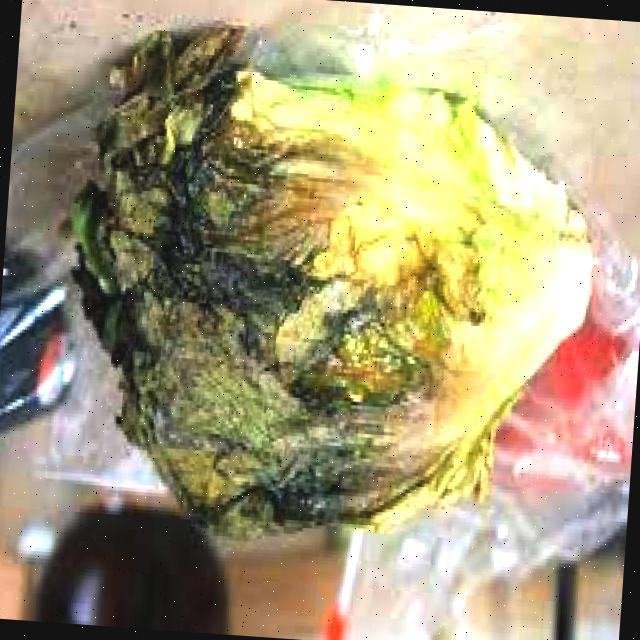Septoria_Blight: (113, 70, 505, 538)
